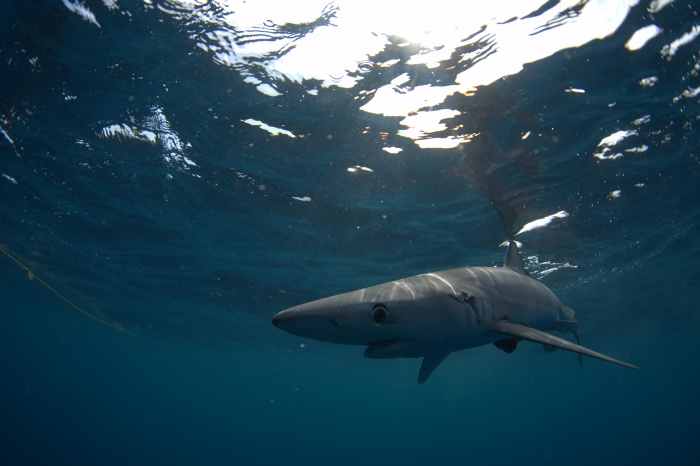Azul: (8, 299, 413, 466), (264, 224, 656, 383)
